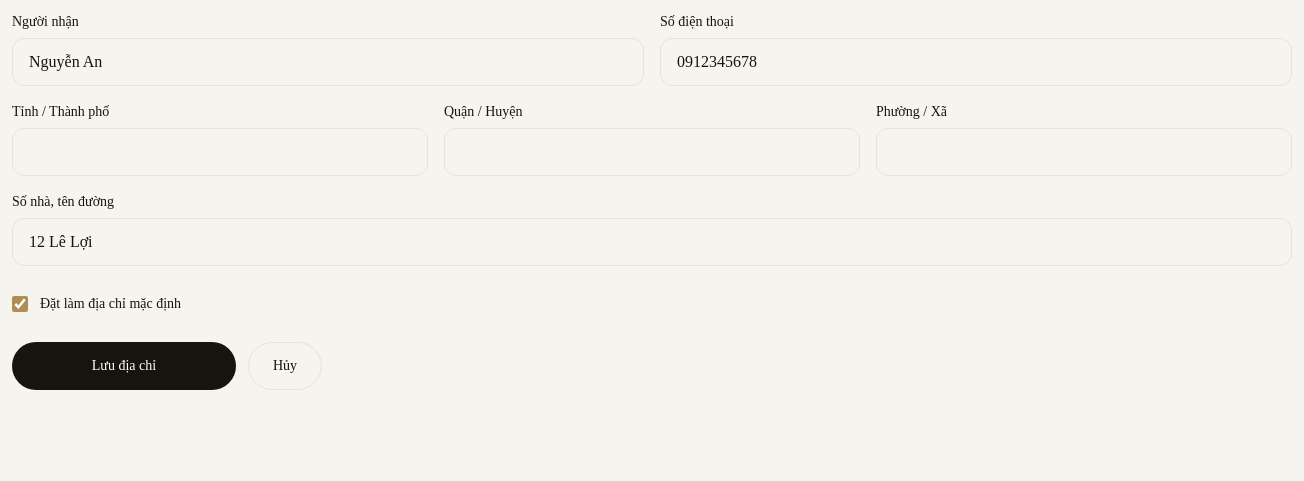
Test: AddressForm › sends the id when editing, and the default flag
Click the button "Lưu địa chỉ" at (124, 366), box [12,342,236,390]
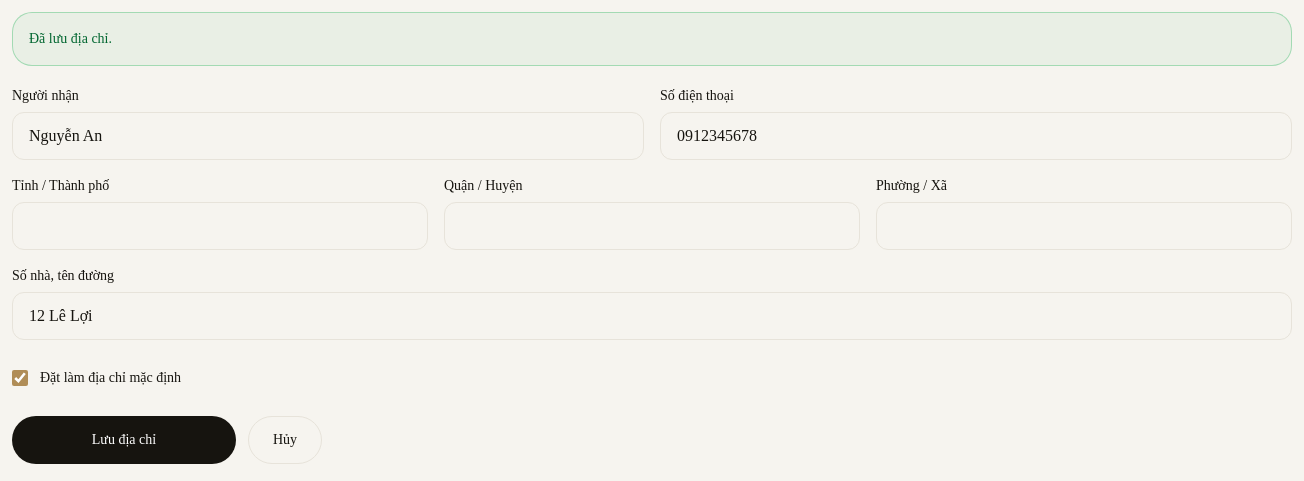
expect the message reads "Đã lưu địa chỉ.": met, box [29,31,112,46]
